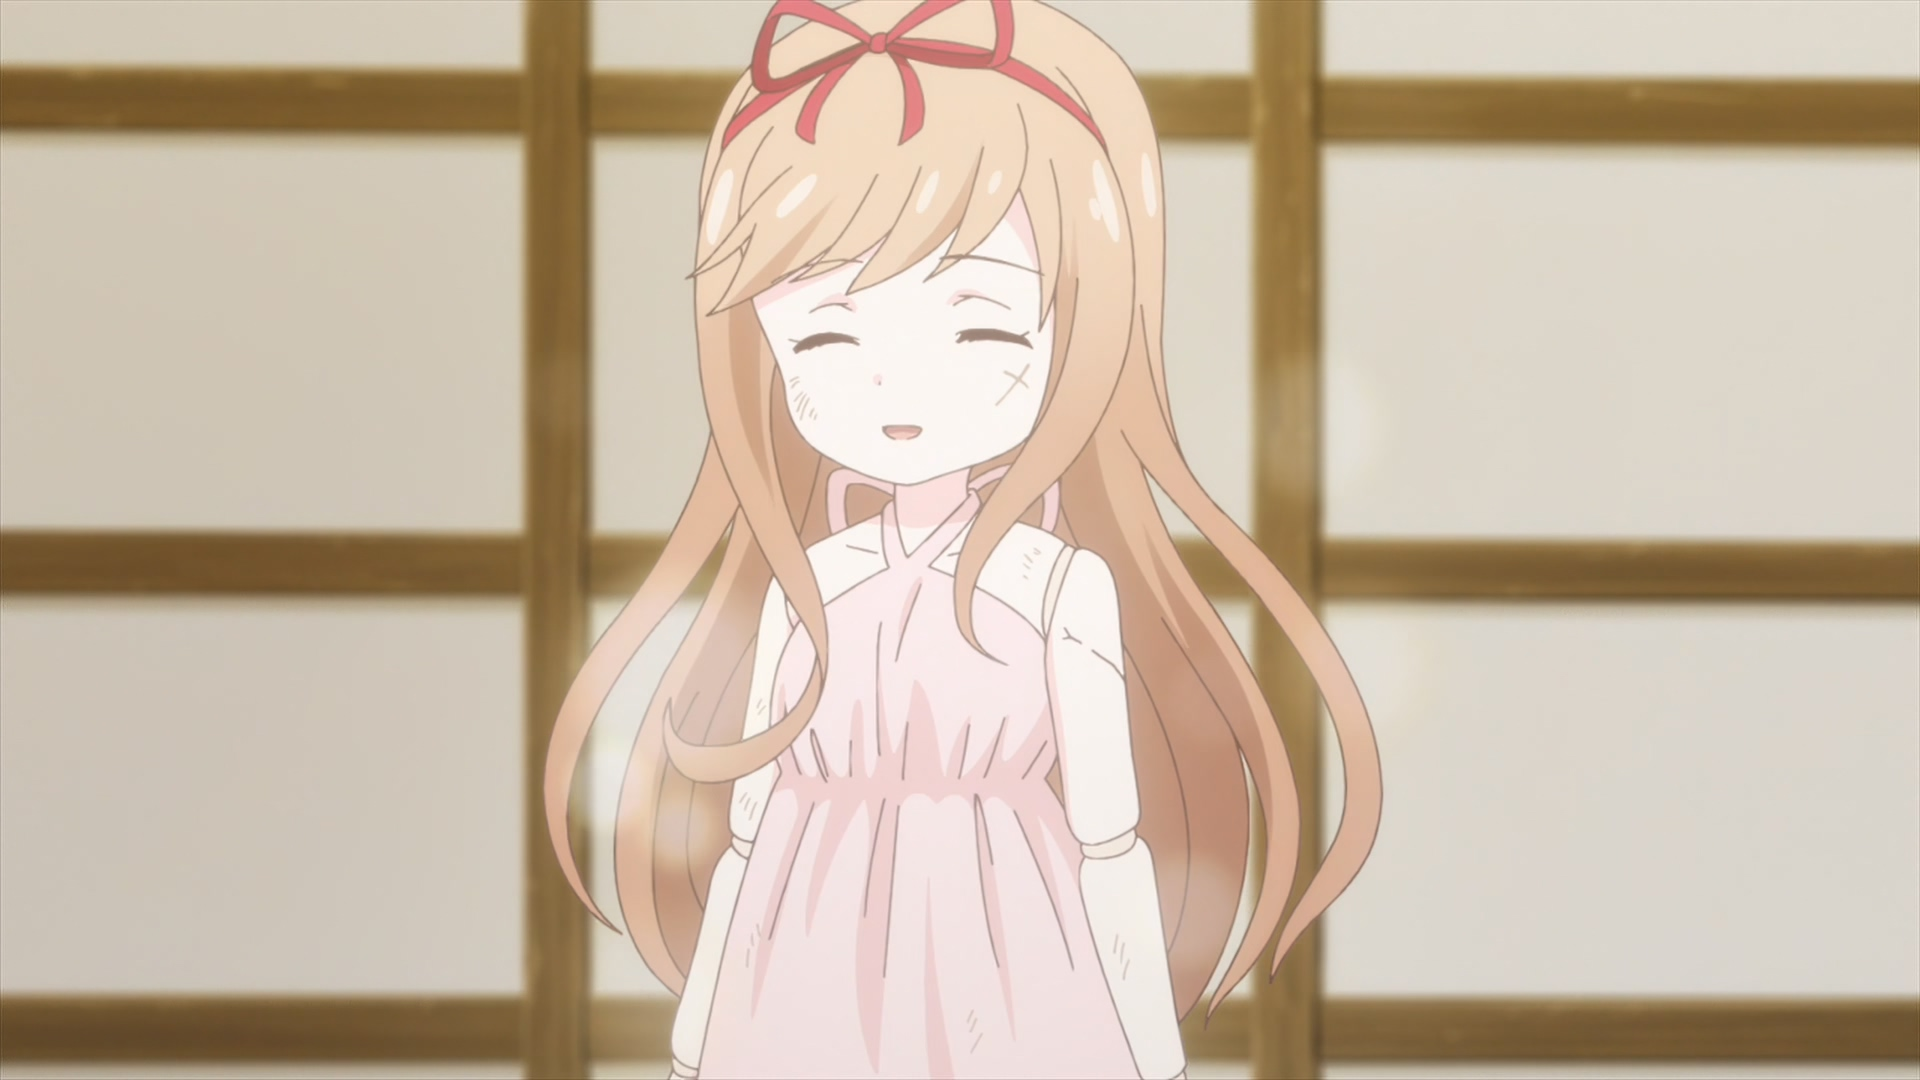其他: (542, 1, 1383, 1080)
